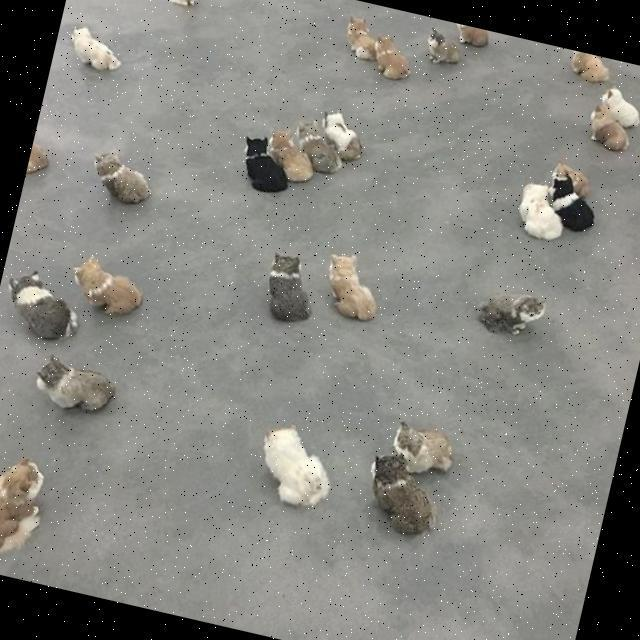Cats: (234, 398, 360, 531), (358, 443, 472, 552), (20, 341, 133, 426), (0, 437, 62, 572), (378, 411, 476, 490), (250, 242, 332, 335), (54, 9, 143, 90), (62, 259, 162, 331), (84, 136, 168, 218), (317, 245, 399, 327), (225, 122, 302, 204), (4, 267, 80, 350), (477, 272, 557, 344), (512, 176, 574, 252), (308, 95, 369, 172), (577, 87, 640, 161), (540, 162, 605, 232), (356, 27, 426, 92), (286, 111, 352, 179), (255, 127, 316, 192), (414, 24, 474, 82), (595, 75, 640, 140), (155, 0, 214, 19)
